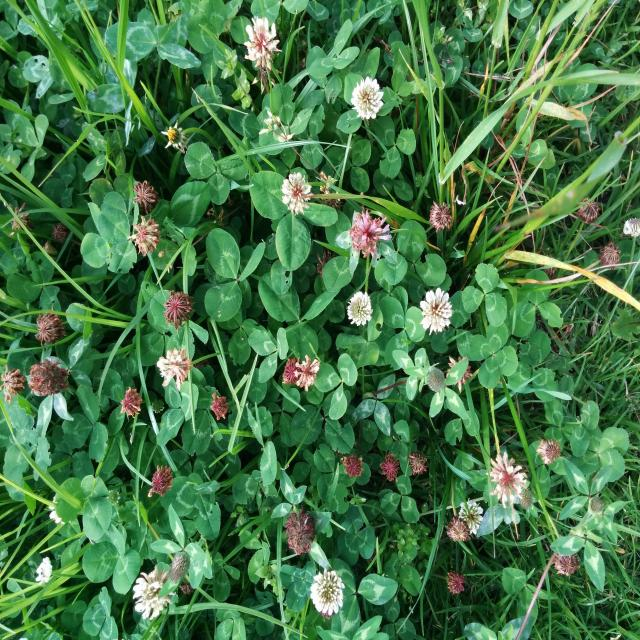Four Leaf Clover: (469, 322, 518, 388)
